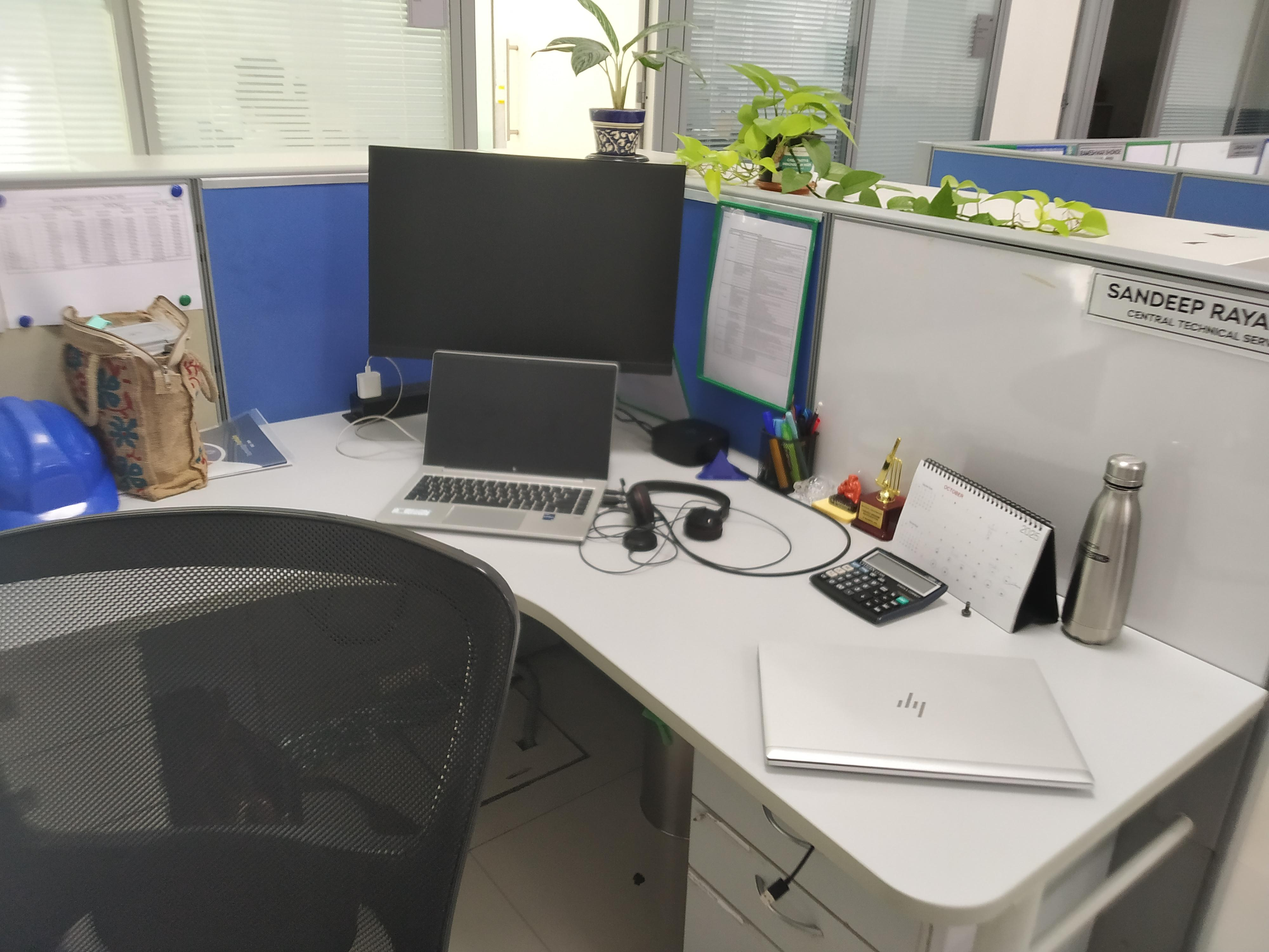book: (198, 400, 297, 485)
bottle: (1053, 439, 1164, 658)
calender: (880, 449, 1065, 641)
desktop: (362, 137, 695, 383)
headphone: (621, 473, 739, 549)
laptop: (363, 344, 624, 547)
nameplate: (1079, 261, 1269, 362)
page: (0, 179, 212, 344), (689, 193, 828, 424)
